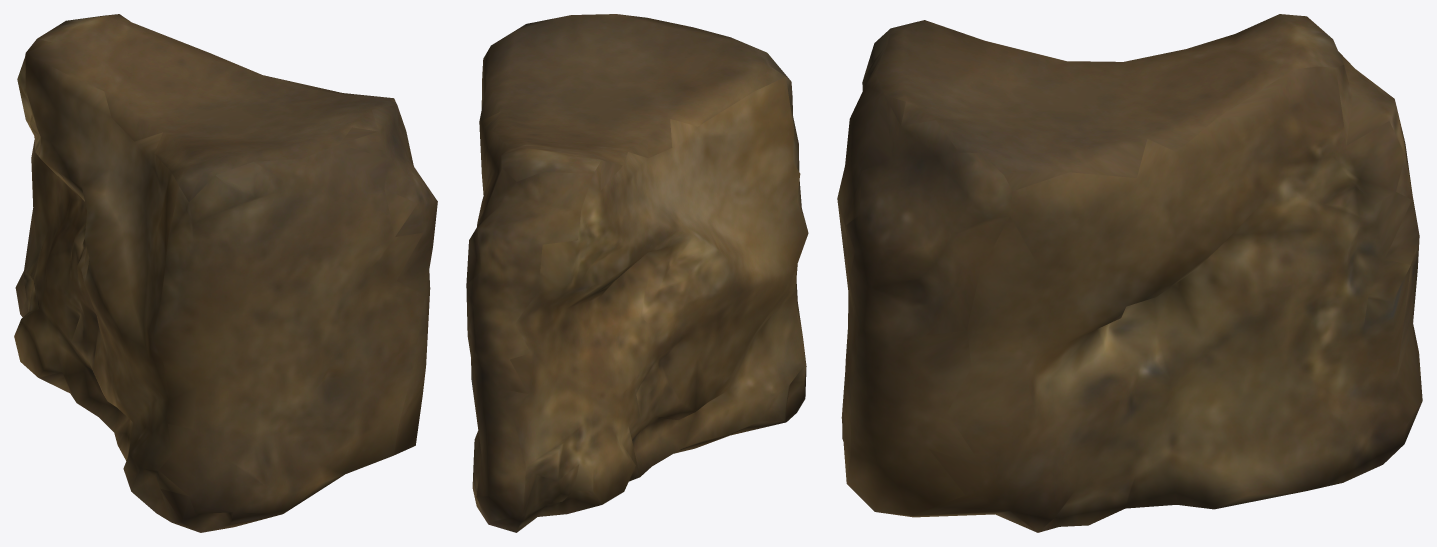
File: Predplustan+1.fbx
3 renders of one model, left to right at view 1: azimuth 30°, elevation 25°; view 2: azimuth 150°, elevation 25°; view 3: azimuth 270°, elevation 25°, orthographic. The views are drawn at different scales.
Visible parts, largest first — view 1: Трегранная1; view 2: Трегранная1; view 3: Трегранная1.
Part boxes in pixels (left/top/right/bottom): Трегранная1: left=14, top=14, right=437, bottom=532; Трегранная1: left=466, top=14, right=808, bottom=532; Трегранная1: left=837, top=14, right=1422, bottom=532.
Size of the model in its own units: 1622 by 2003 by 2417.
